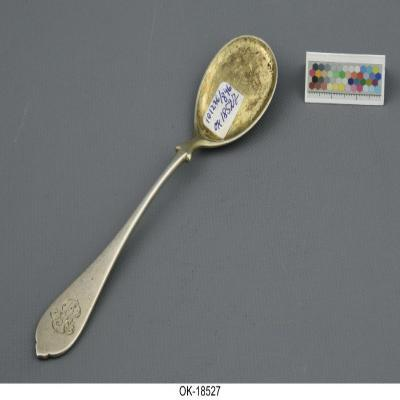dpi: (34, 35, 278, 362)
